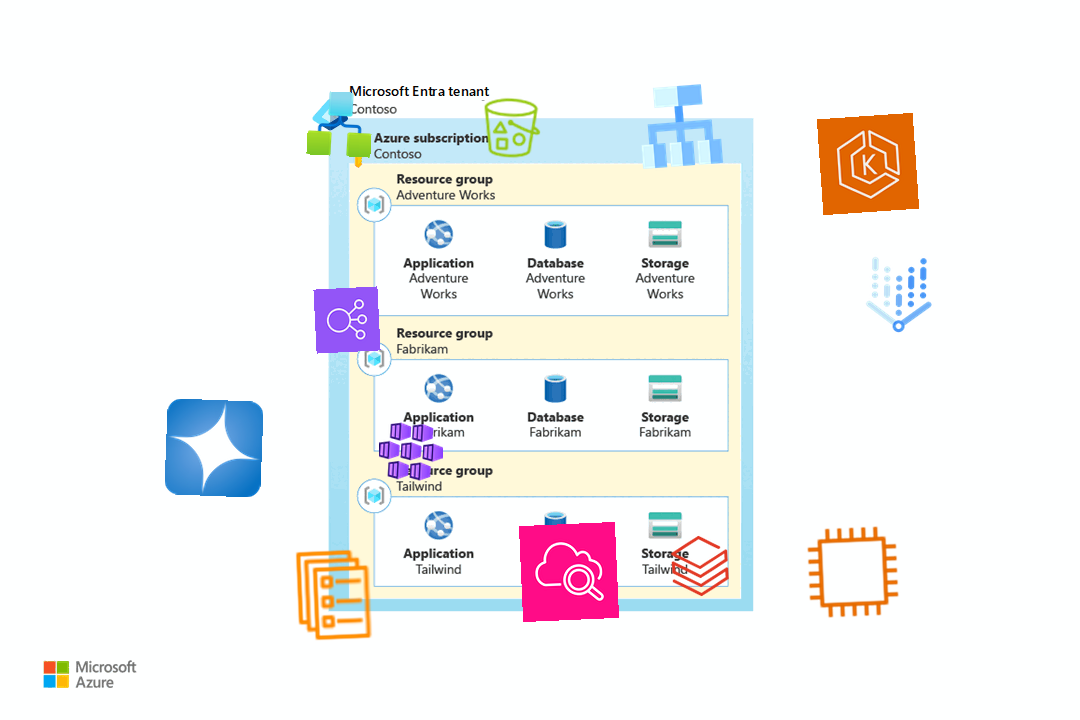aws_amazon_cloudwatch: (518, 521, 620, 623)
aws_amazon_elastic_kubernetes_service: (816, 112, 920, 216)
aws_ec2_instance: (802, 521, 904, 623)
aws_elastic_container_service_service: (284, 545, 384, 645)
aws_elastic_load_balancing: (313, 286, 381, 354)
aws_simple_storage_service_bucket_with_objects: (478, 94, 546, 162)
azure_databricks: (666, 532, 734, 600)
azure_kubernetes_services: (377, 417, 445, 485)
azure_logic_apps: (306, 90, 374, 158)
azure_openai: (164, 398, 264, 498)
gcp_cloud_load_balancing: (628, 74, 732, 178)
gcp_vertex_ai: (850, 246, 948, 344)
